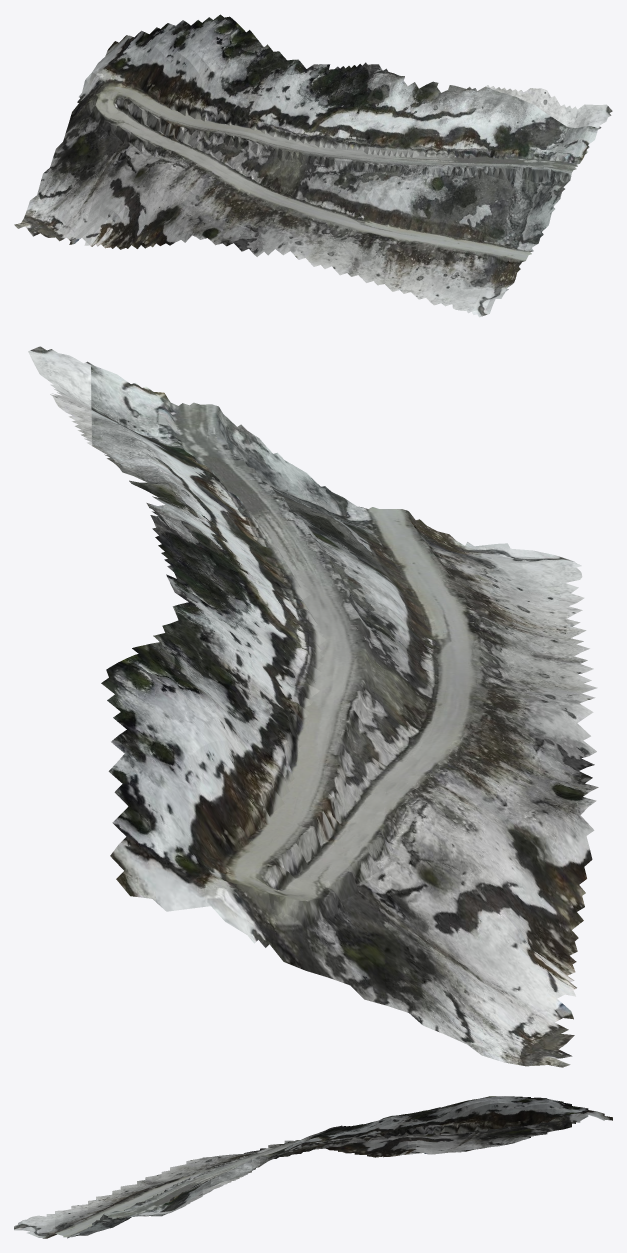
Rendered from terrain_raster2.dae.
The picture shows the model from 3 angles, top to bottom: view 1: azimuth 30°, elevation 25°; view 2: azimuth 150°, elevation 25°; view 3: azimuth 270°, elevation 25°; orthographic projection. The views are drawn at different scales.
Parts seen in each view (by area): view 1: 100cm_terrain.008; view 2: 100cm_terrain.008; view 3: 100cm_terrain.008.
Boxes of the visible parts, box(x1,y1,x2,y2) form: 100cm_terrain.008: box(14, 14, 612, 317); 100cm_terrain.008: box(28, 346, 598, 1067); 100cm_terrain.008: box(14, 1096, 612, 1238).
Bounding box in the file's own units: 6.1 × 7.3 × 2.09.
1 material, 1 textured.
